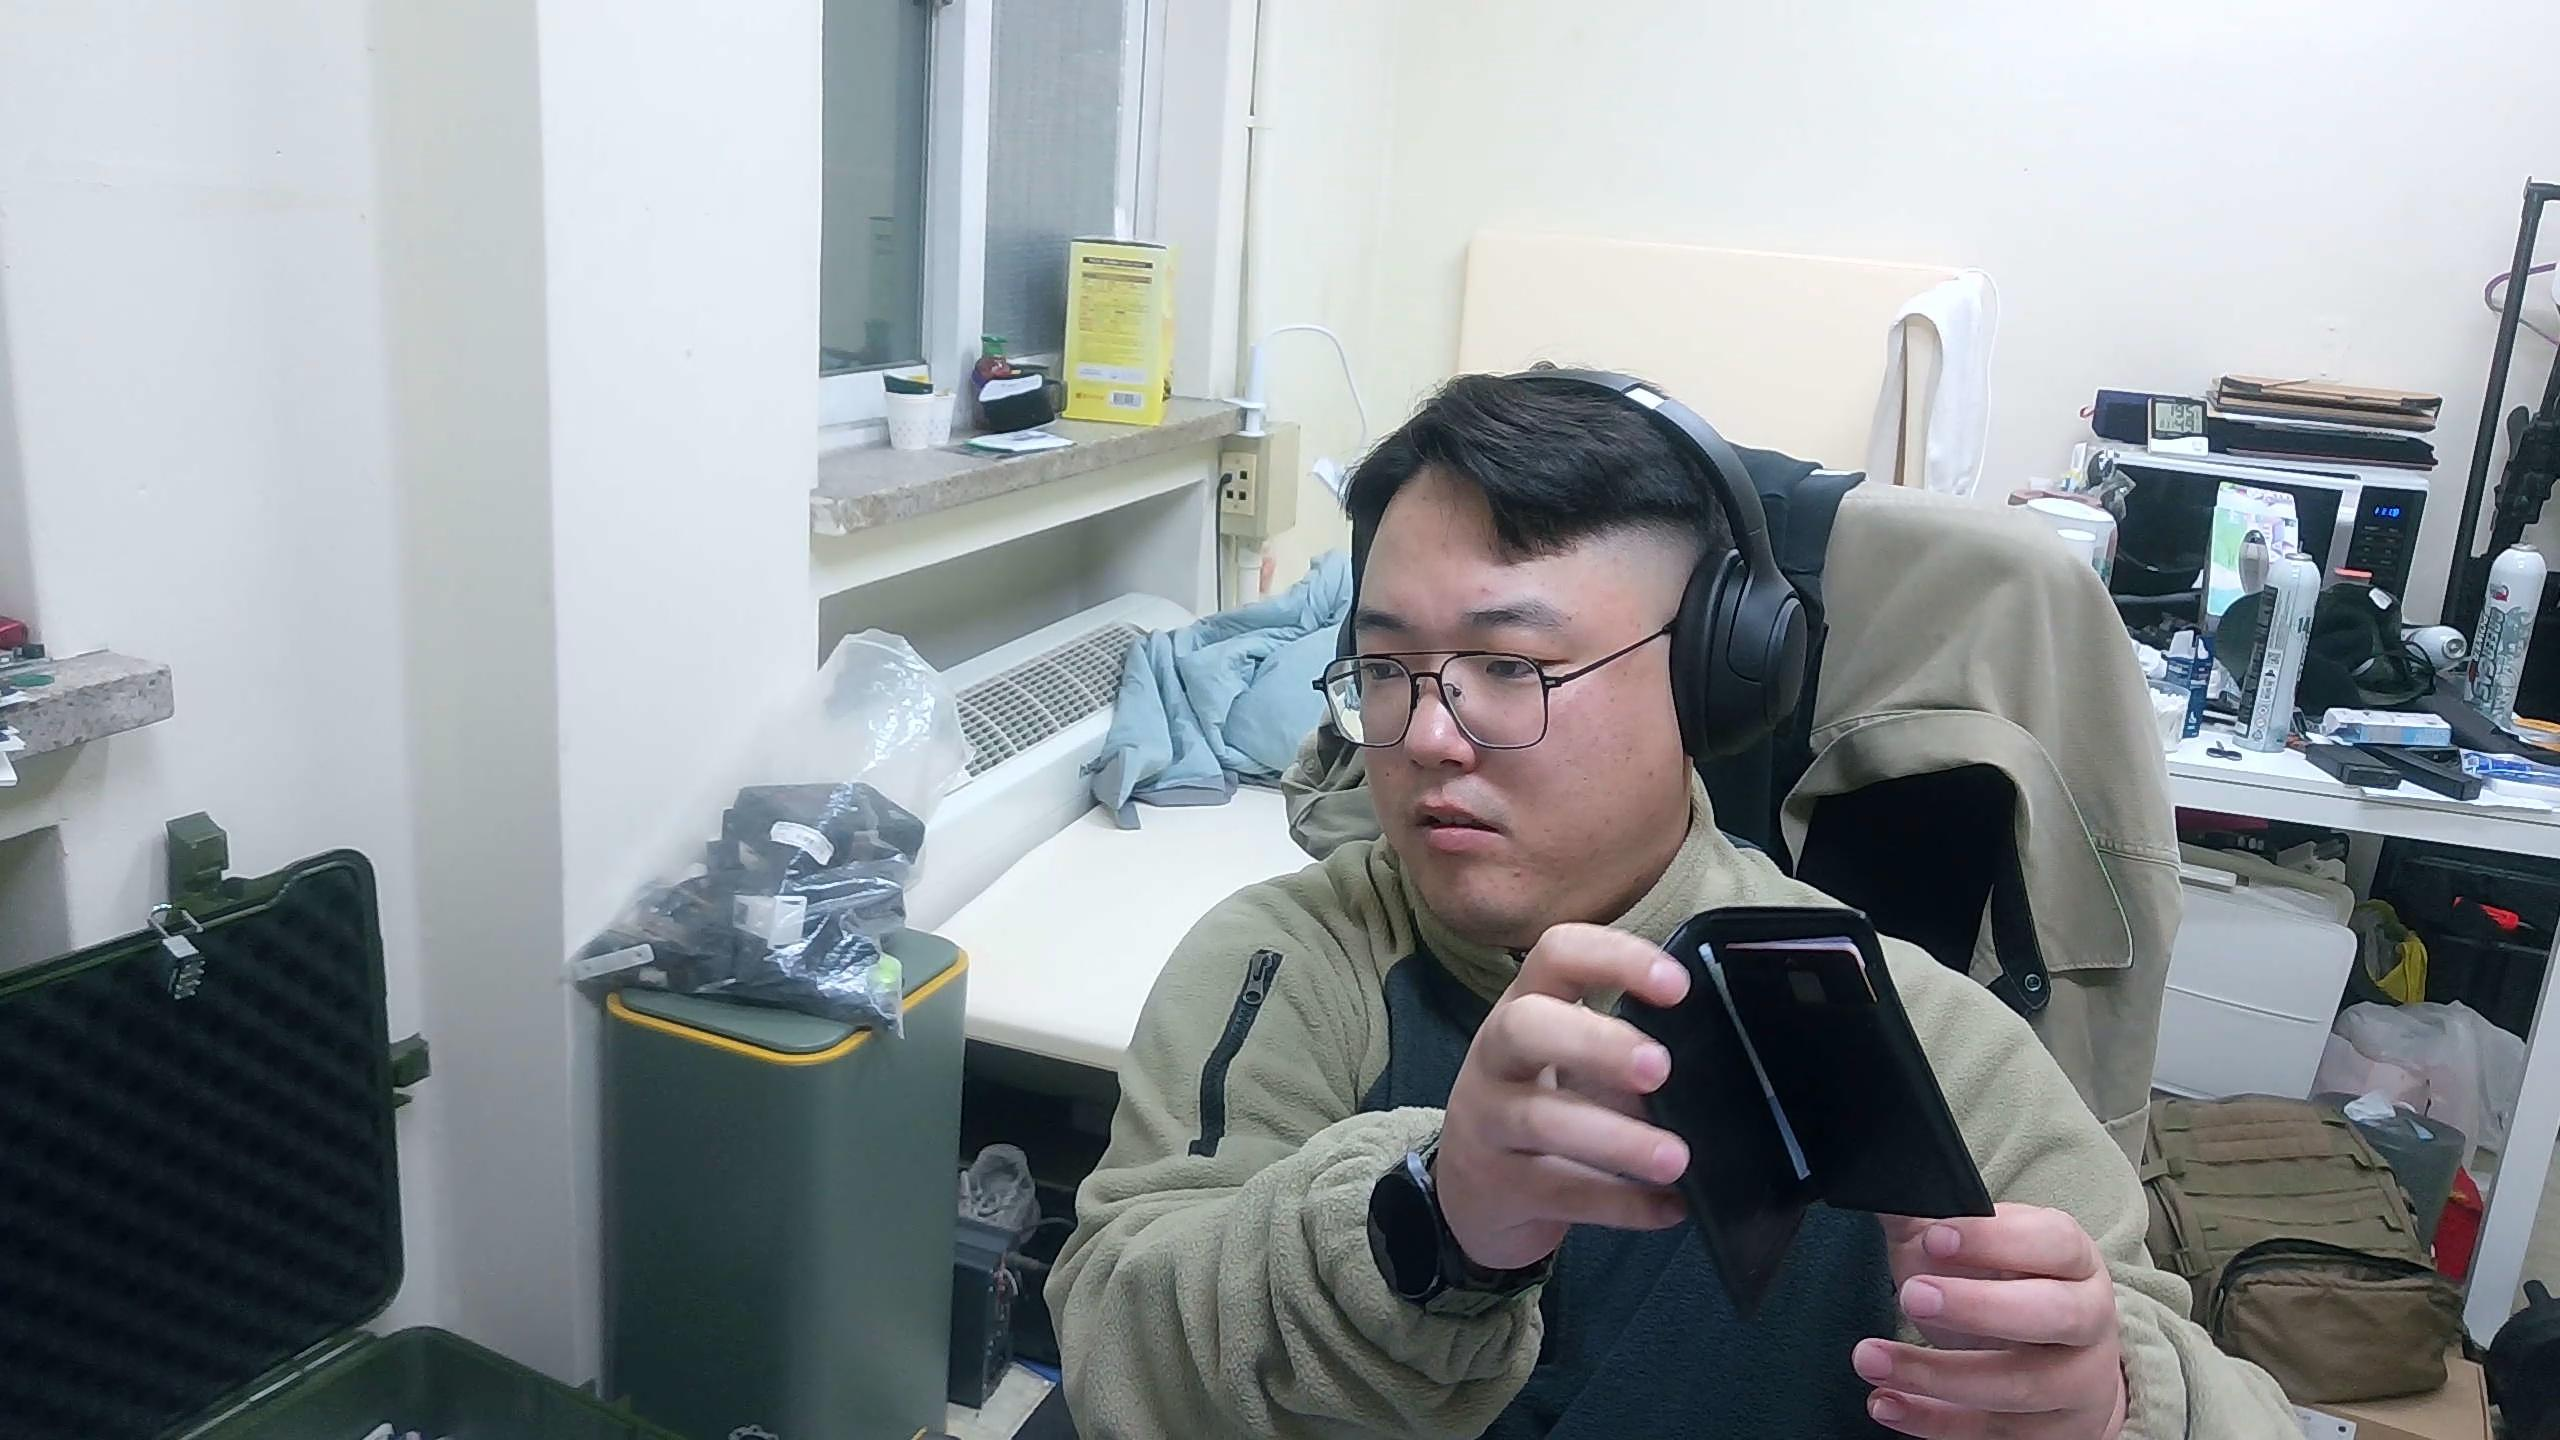earphone: (1612, 900, 2001, 1319)
